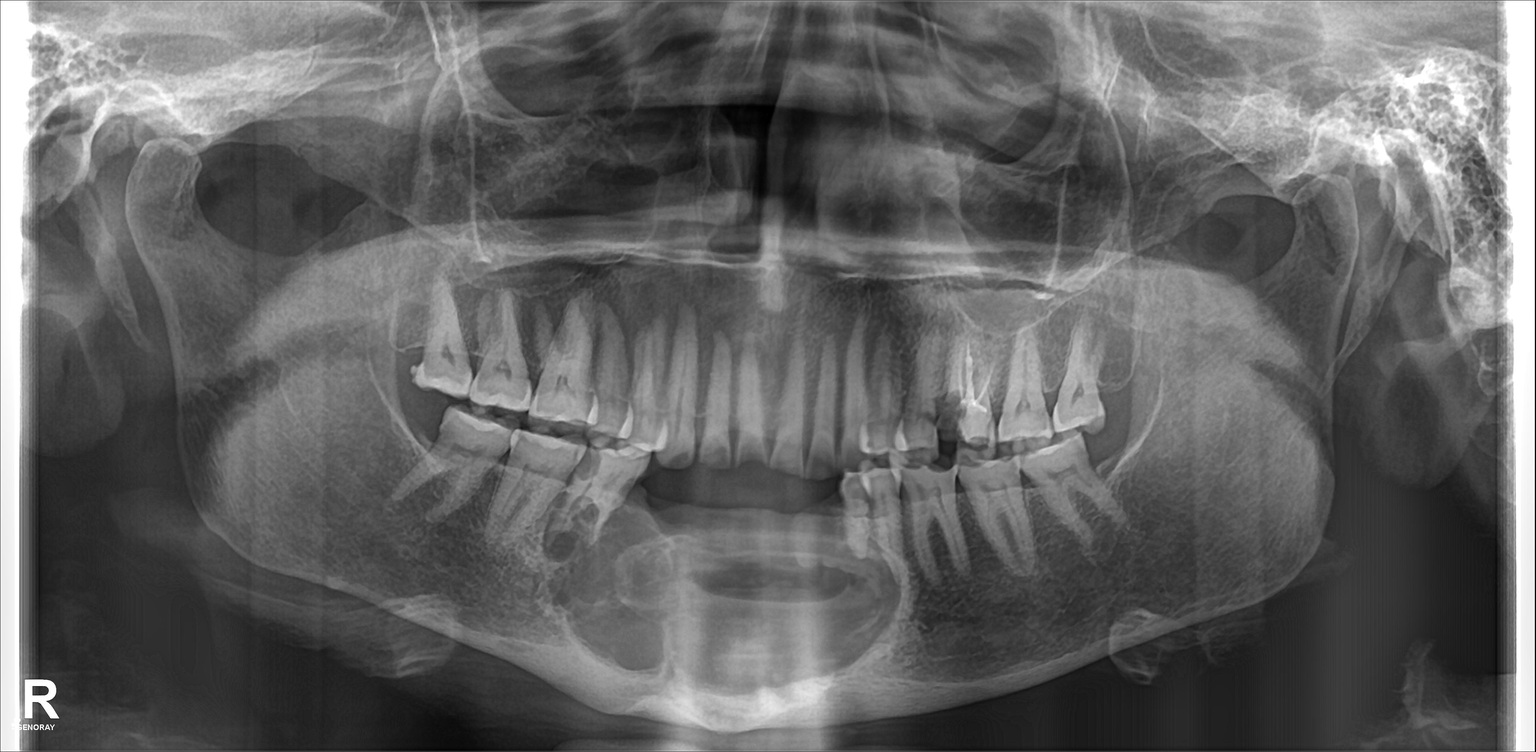Missing Tooth: (644, 473, 691, 590), (378, 277, 425, 358), (696, 486, 740, 569), (784, 495, 828, 578), (1106, 309, 1144, 401), (395, 385, 432, 468), (750, 488, 781, 585), (1102, 434, 1144, 477)
